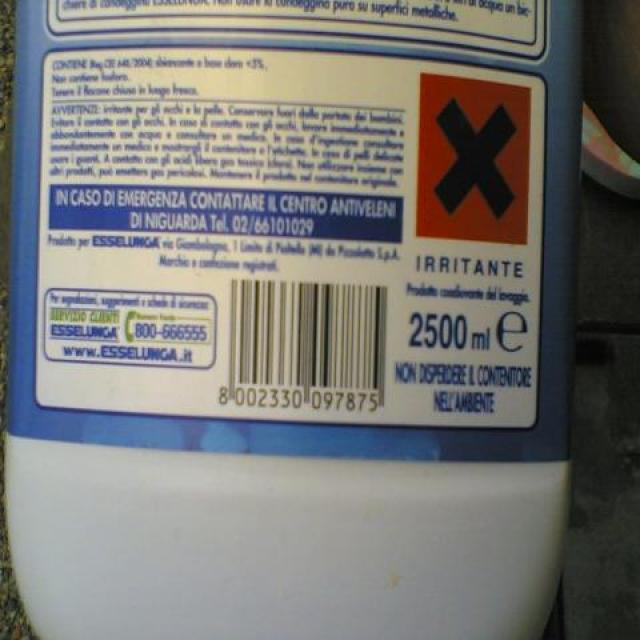Barcode: (216, 270, 393, 418)
